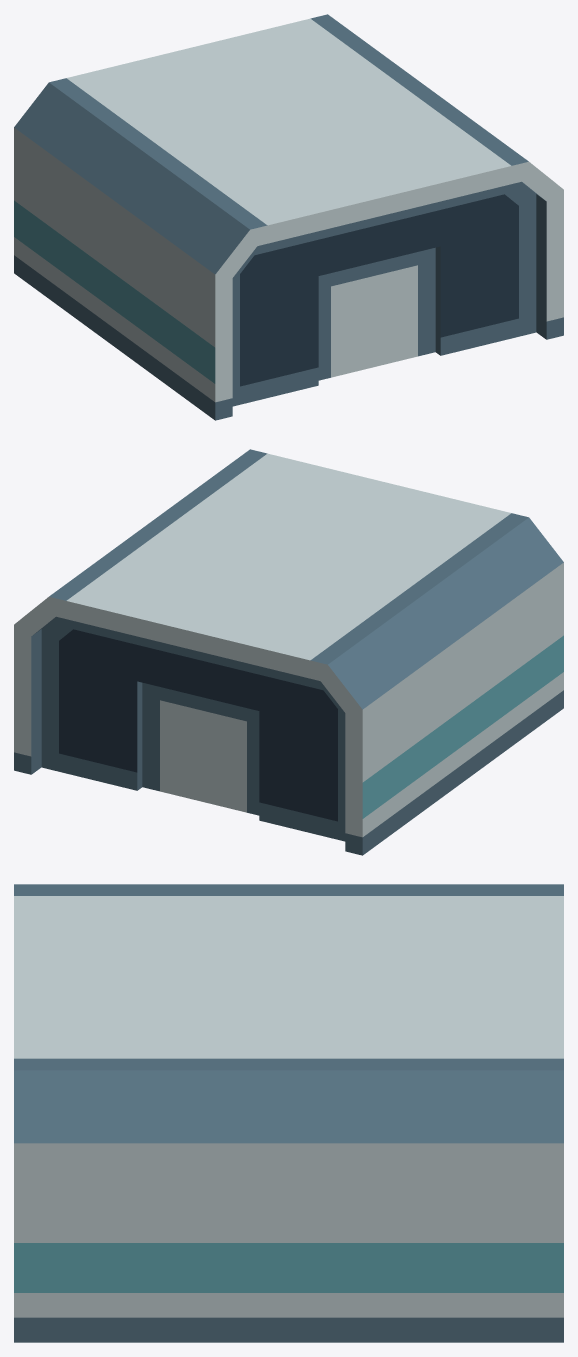
Rendered from hangar_smallA.glb.
3 views of the same model, one above another, from view 1: azimuth 30°, elevation 25°; view 2: azimuth 150°, elevation 25°; view 3: azimuth 270°, elevation 25° (orthographic). The views are drawn at different scales.
Parts seen in each view (by area): view 1: hangar_smallA, gate; view 2: hangar_smallA, gate; view 3: hangar_smallA.
Part boxes in pixels (left/top/right/bottom): hangar_smallA: left=14, top=14, right=563, bottom=420; gate: left=232, top=182, right=536, bottom=406; hangar_smallA: left=14, top=449, right=563, bottom=855; gate: left=41, top=617, right=345, bottom=841; hangar_smallA: left=14, top=884, right=563, bottom=1342.
Size of the model in its own units: 2 by 1 by 2.
